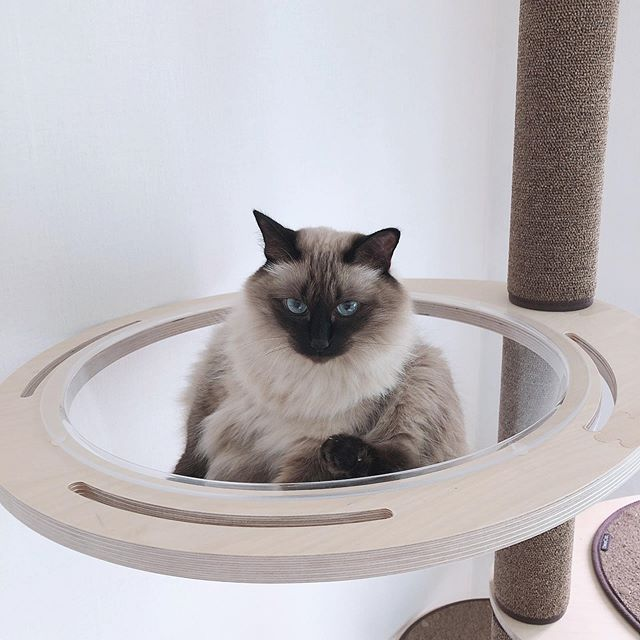cat: (246, 203, 407, 368)
